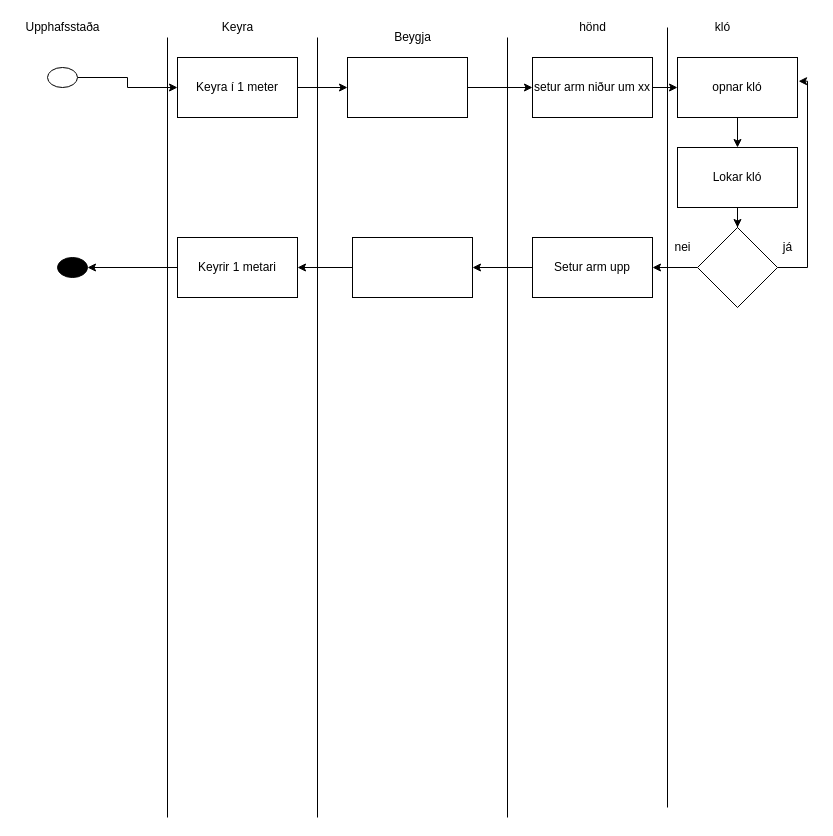
Some shapes in this 833 by 836 pixel diagram are drawn without their labels. The centre of each missing label's shape, as x and y in pixels:
Beygja í 30 gráður: the point at 407,87
Ef kló er tóm: the point at 737,267
snýr um 90 gráður: the point at 412,267
